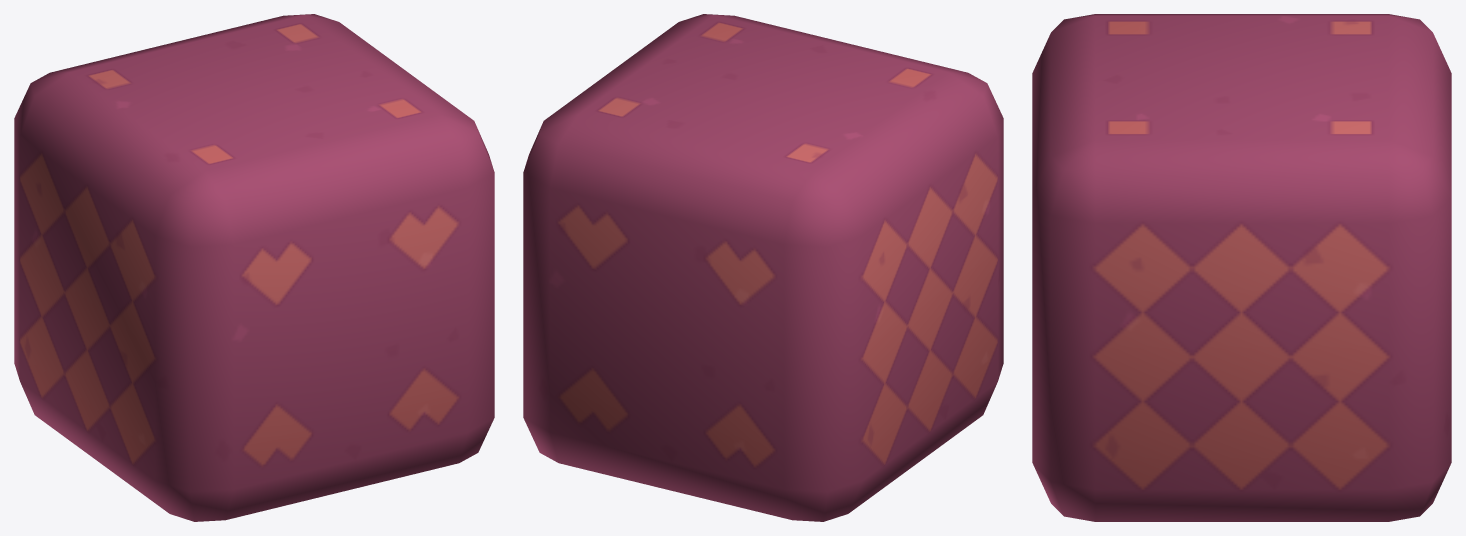
The model's file is BG_022_decobox.FBX.
The picture shows the model from 3 angles, left to right: view 1: azimuth 30°, elevation 25°; view 2: azimuth 150°, elevation 25°; view 3: azimuth 270°, elevation 25°; orthographic projection. The views are drawn at different scales.
Visible parts, largest first — view 1: BG_022_decobox; view 2: BG_022_decobox; view 3: BG_022_decobox.
Boxes of the visible parts, x1,y1,x2,y2 form: BG_022_decobox: (14,14,494,521); BG_022_decobox: (523,14,1003,521); BG_022_decobox: (1032,14,1451,521).
Bounding box in the file's own units: 200 × 200 × 200.
